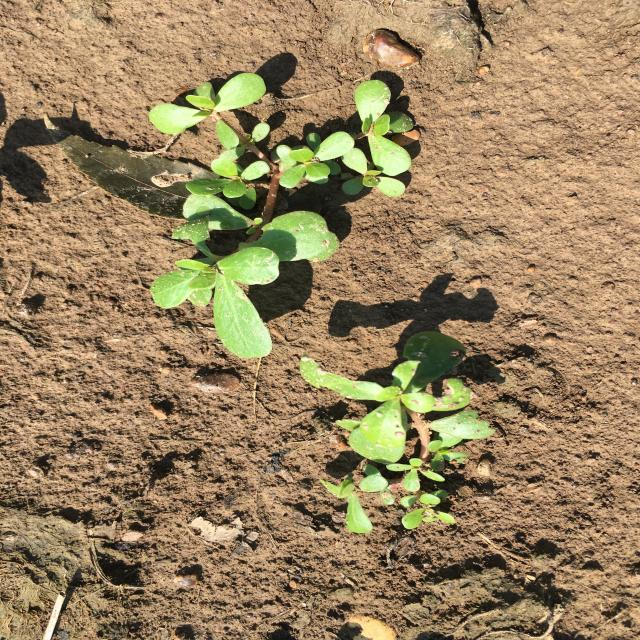Purslane: (149, 73, 414, 358), (299, 331, 496, 533)
